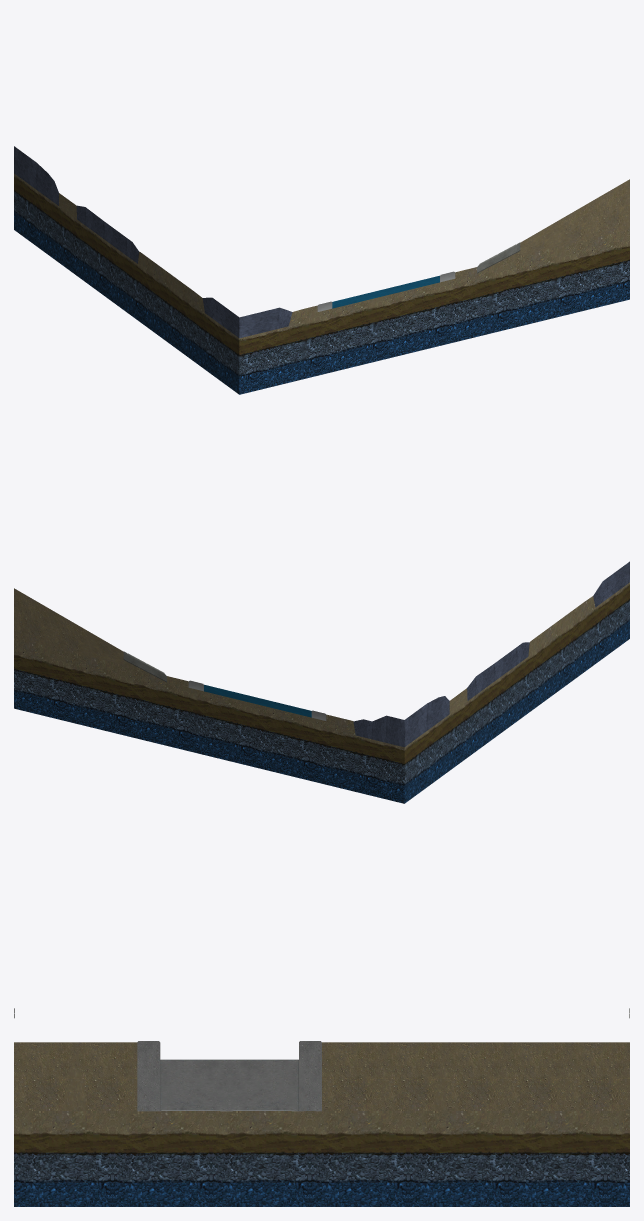
3 views of the same model, one above another, from view 1: azimuth 30°, elevation 25°; view 2: azimuth 150°, elevation 25°; view 3: azimuth 270°, elevation 25° (orthographic). The views are drawn at different scales.
Parts seen in each view (by area): view 1: Joint_0_Object_2, Joint_0_Object_1, Joint_0_Object_4, Joint_0_Object_5; view 2: Joint_0_Object_2, Joint_0_Object_1, Joint_0_Object_4, Joint_0_Object_5; view 3: Joint_0_Object_2, Joint_0_Object_4, Joint_0_Object_0, Joint_0_Object_7.
Boxes of the visible parts, x1,y1,x2,y2 form: Joint_0_Object_2: (14, 173, 629, 394); Joint_0_Object_1: (14, 146, 292, 338); Joint_0_Object_4: (520, 179, 629, 255); Joint_0_Object_5: (332, 275, 439, 308); Joint_0_Object_2: (14, 582, 629, 803); Joint_0_Object_1: (353, 561, 629, 747); Joint_0_Object_4: (14, 588, 123, 665); Joint_0_Object_5: (204, 684, 311, 717); Joint_0_Object_2: (14, 1111, 629, 1206); Joint_0_Object_4: (14, 1042, 629, 1111); Joint_0_Object_0: (160, 1059, 298, 1111); Joint_0_Object_7: (137, 1041, 321, 1111).
Bounding box in the file's own units: 10000 × 2973 × 10000.
8 materials, 8 textured.
